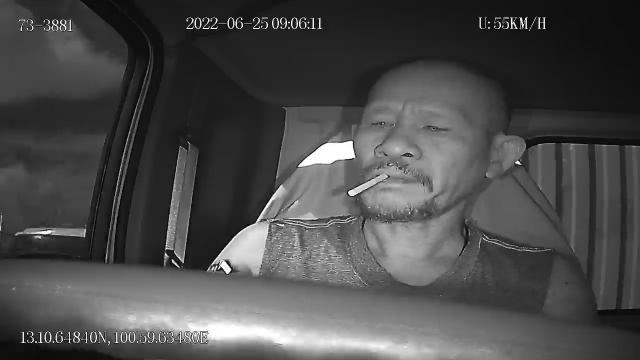SafeDriving: (413, 112, 458, 140), (362, 109, 396, 136)
Smoking: (348, 172, 388, 196)
